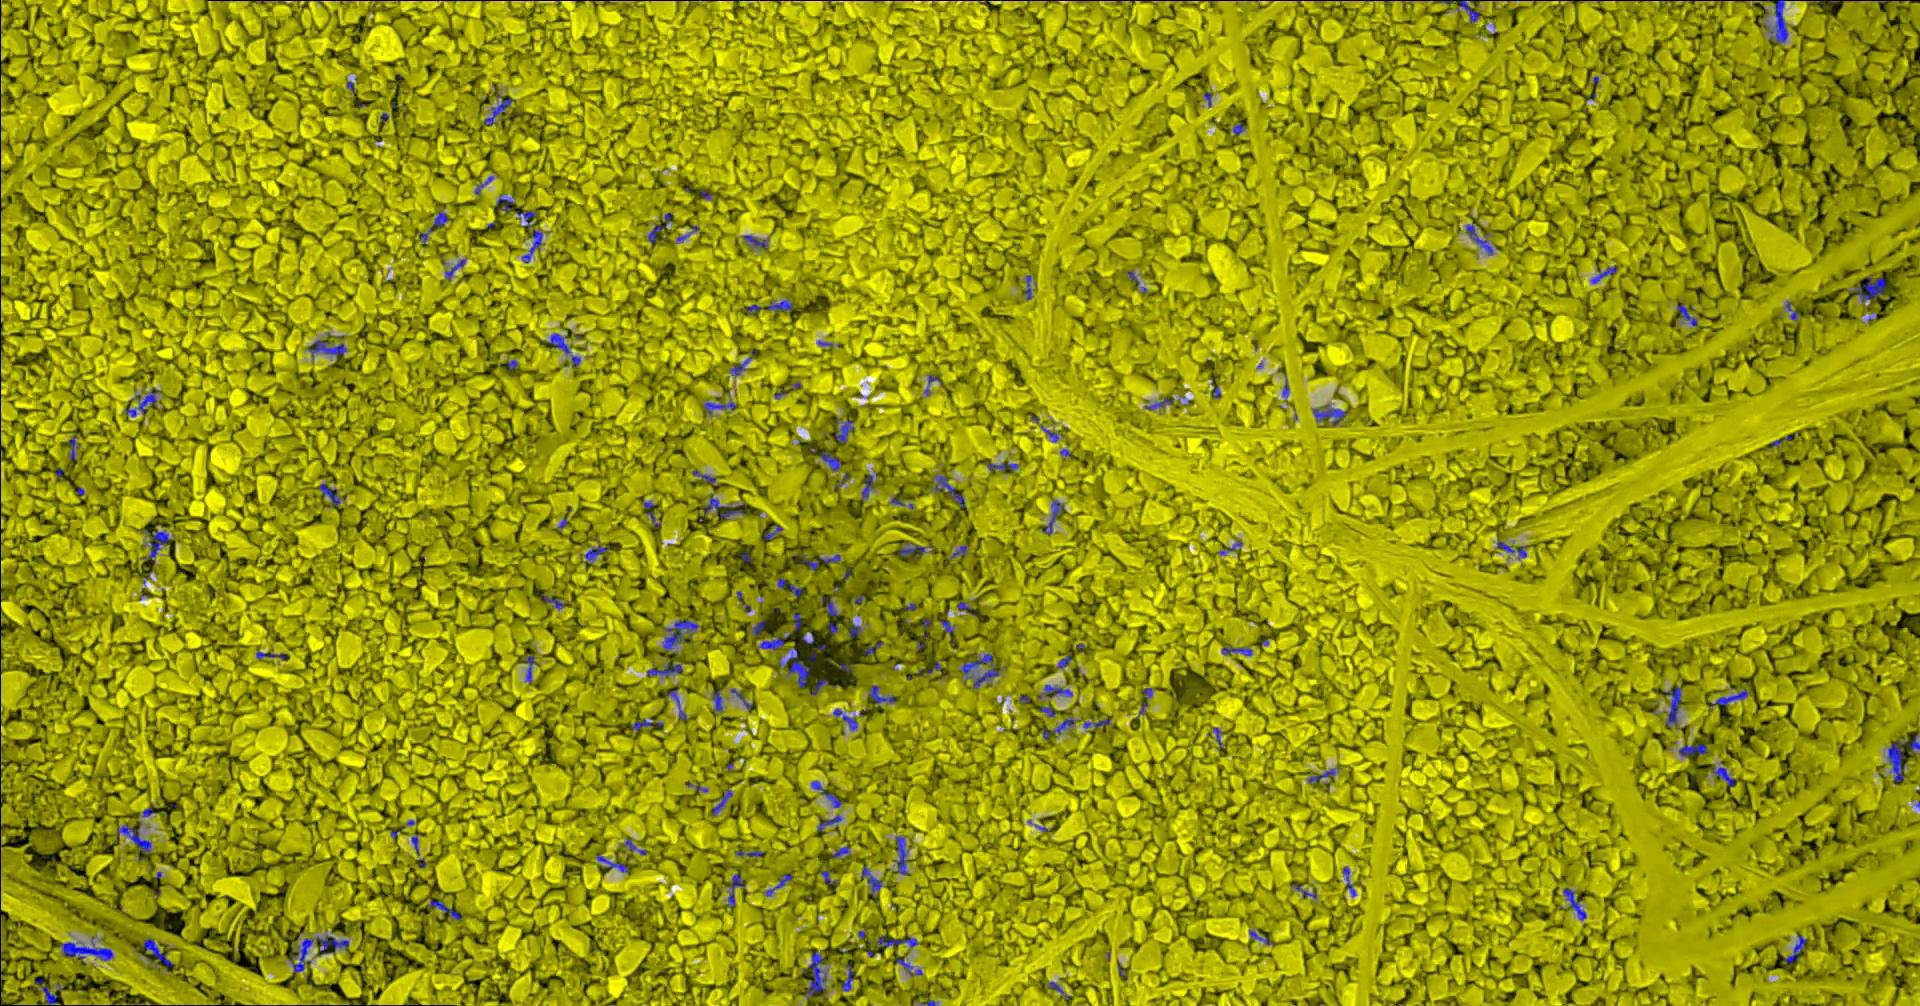ant: (288, 935, 348, 972), (1887, 734, 1919, 782), (959, 653, 999, 688), (778, 647, 811, 687), (58, 936, 112, 960), (116, 823, 151, 859), (663, 619, 698, 652), (547, 333, 580, 367), (1465, 224, 1498, 255), (933, 474, 964, 507), (124, 387, 159, 417), (804, 951, 825, 997), (1434, 0, 1478, 22), (703, 497, 745, 520), (1849, 276, 1886, 301), (418, 211, 447, 243), (810, 780, 843, 807), (142, 937, 171, 967), (1768, 0, 1787, 43), (143, 530, 169, 561), (1312, 403, 1346, 426), (483, 97, 510, 124), (1663, 683, 1681, 727), (1043, 499, 1064, 533), (1709, 688, 1747, 708), (1563, 887, 1585, 920), (648, 212, 670, 243), (860, 864, 883, 894), (521, 230, 542, 262), (1043, 718, 1074, 739), (428, 898, 460, 920), (307, 339, 345, 357), (891, 836, 909, 874), (763, 873, 792, 895), (1784, 934, 1806, 964), (1709, 761, 1735, 786), (747, 298, 792, 312), (801, 554, 839, 570), (822, 596, 838, 634), (869, 685, 894, 709), (319, 483, 345, 506), (667, 688, 686, 720), (596, 854, 627, 873), (34, 978, 56, 1005), (711, 788, 731, 815), (1496, 540, 1526, 558), (818, 448, 841, 471), (833, 708, 856, 730), (728, 873, 743, 907), (777, 577, 803, 597), (895, 956, 922, 976), (897, 542, 930, 558), (758, 633, 789, 649), (877, 935, 917, 948), (646, 662, 682, 676), (1590, 265, 1617, 283), (584, 545, 608, 564), (643, 500, 660, 526), (444, 258, 465, 279), (1676, 304, 1697, 325), (836, 419, 855, 442), (540, 593, 568, 608), (516, 206, 536, 226), (730, 688, 750, 709), (817, 814, 841, 831), (1307, 768, 1335, 782), (730, 356, 750, 375), (861, 473, 876, 498), (703, 401, 737, 413), (1043, 683, 1072, 696), (1342, 866, 1355, 895), (916, 661, 941, 674), (1677, 743, 1705, 756), (692, 469, 715, 484), (623, 838, 646, 854), (743, 234, 767, 248), (841, 962, 852, 991), (1250, 929, 1271, 944), (1144, 398, 1172, 409), (495, 196, 513, 212), (820, 869, 838, 885), (1139, 687, 1150, 713), (762, 525, 782, 539), (524, 655, 535, 683), (987, 462, 1018, 471), (711, 688, 723, 713), (255, 652, 286, 661), (1083, 716, 1110, 727), (830, 845, 850, 859), (1222, 647, 1251, 655), (811, 678, 828, 694), (632, 718, 651, 730), (950, 544, 966, 558), (750, 619, 764, 635), (69, 434, 77, 459), (1057, 653, 1070, 668), (1039, 705, 1055, 716), (940, 619, 952, 633), (734, 850, 762, 856), (1025, 274, 1031, 298), (792, 612, 800, 631), (850, 624, 860, 636)
